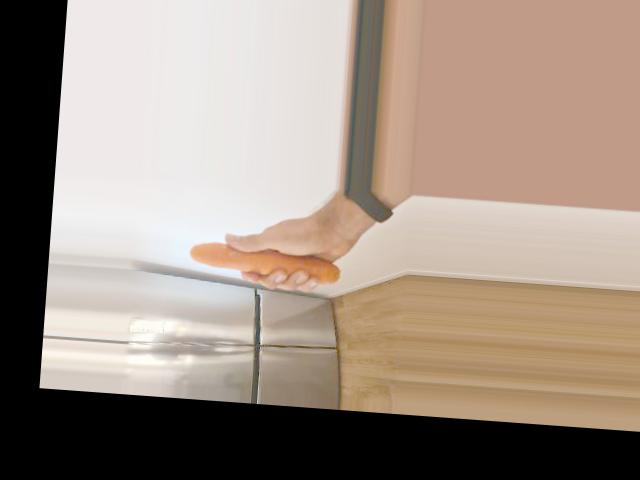carrot: (189, 241, 344, 284)
